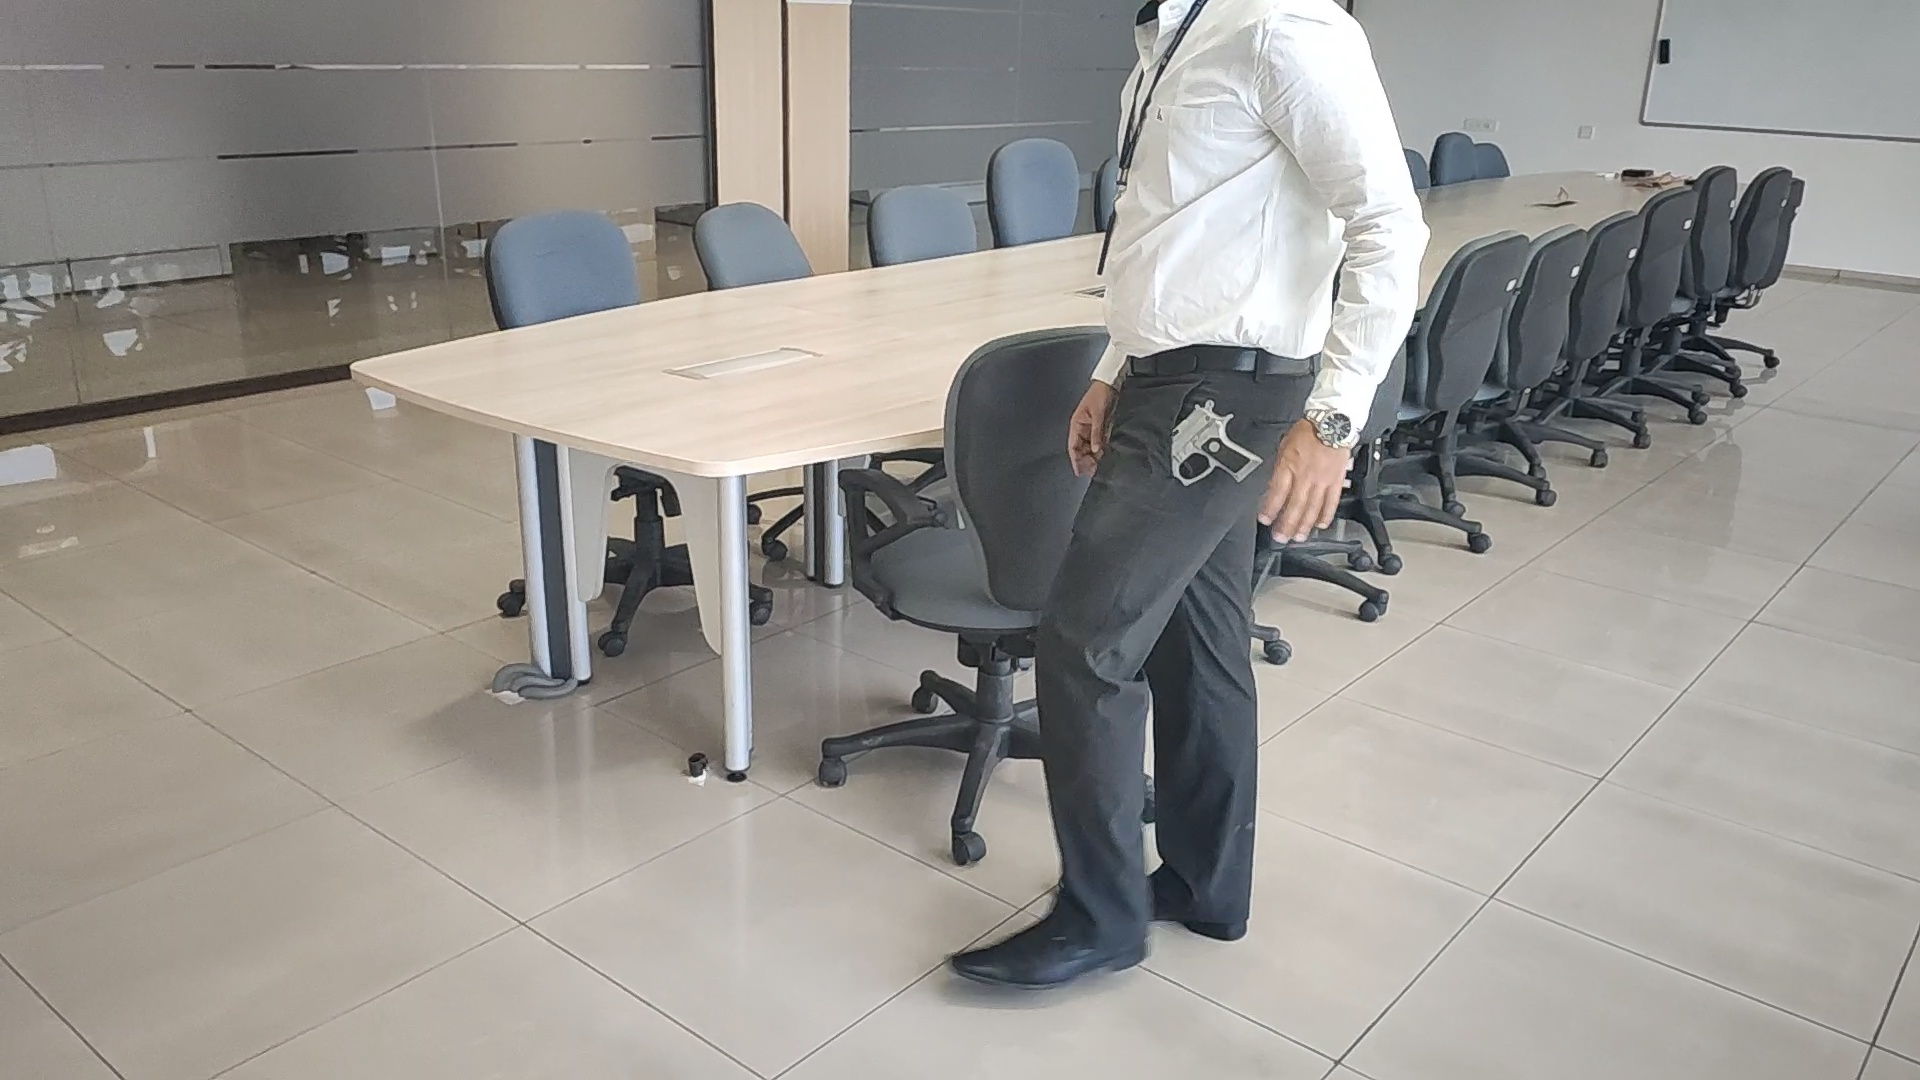gun: (1174, 400, 1263, 487)
